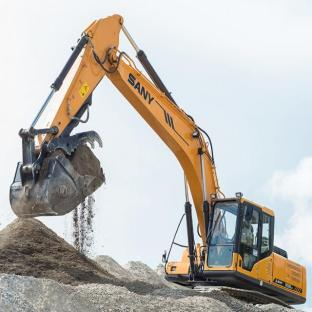ExcavationMachinery: (29, 20, 304, 306)
